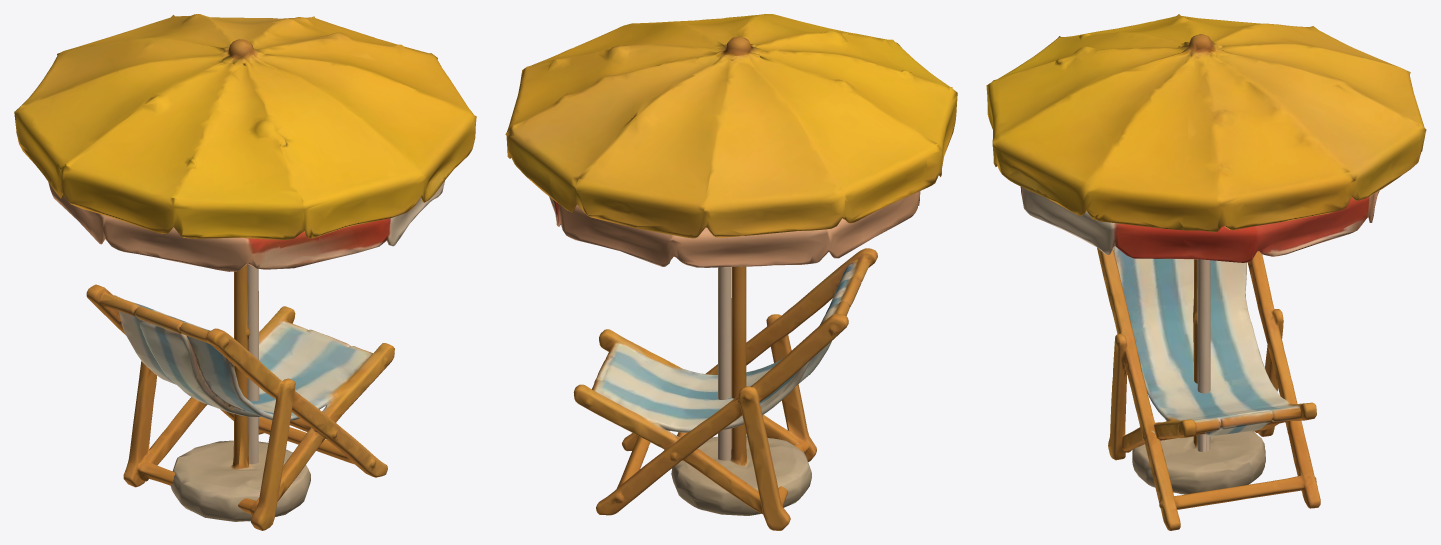
File: plage.glb
3 views of the same model, side by side, from view 1: azimuth 30°, elevation 25°; view 2: azimuth 150°, elevation 25°; view 3: azimuth 270°, elevation 25° (orthographic). The views are drawn at different scales.
Parts seen in each view (by area): view 1: parasol-de-marche, transat, parasol-de-plage; view 2: parasol-de-marche, transat, parasol-de-plage; view 3: parasol-de-marche, transat, parasol-de-plage.
Boxes of the visible parts, left/top/right/bottom form: parasol-de-marche: left=14, top=14, right=476, bottom=521; transat: left=86, top=284, right=394, bottom=530; parasol-de-plage: left=48, top=181, right=444, bottom=464; parasol-de-marche: left=505, top=14, right=957, bottom=515; transat: left=573, top=248, right=877, bottom=530; parasol-de-plage: left=549, top=191, right=920, bottom=460; parasol-de-marche: left=986, top=14, right=1426, bottom=494; transat: left=1097, top=246, right=1320, bottom=530; parasol-de-plage: left=1020, top=187, right=1379, bottom=451.
Bounding box in the file's own units: 2.3 × 2.5 × 2.29.
1 material, 1 textured.
